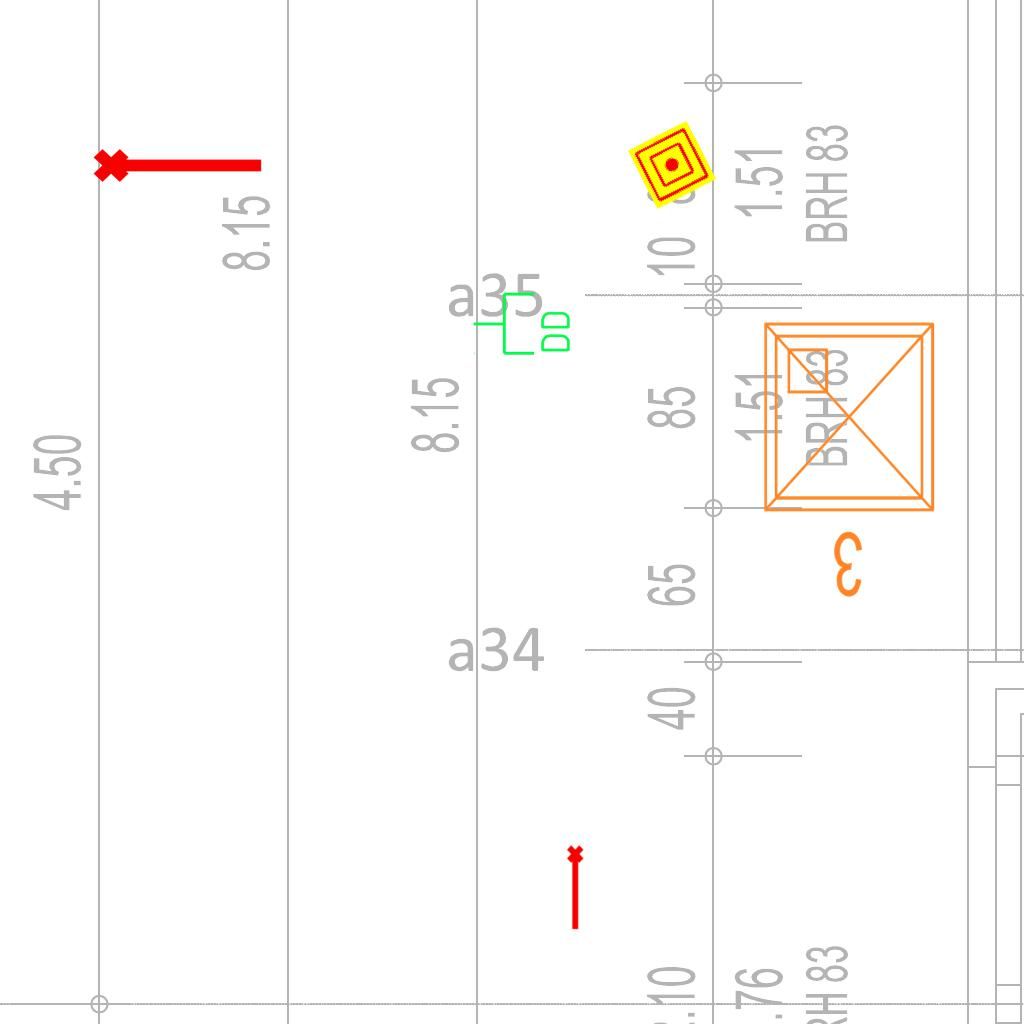ASR_Ansaugoeffnung: (91, 140, 267, 186), (565, 844, 588, 932)
Datenanschluss_zweifach: (471, 290, 574, 359)
Einbaudownlights_LED_Konferenzraeume: (749, 308, 957, 608)
NAM-Nichtautomatischer_Melder: (627, 120, 717, 210)
